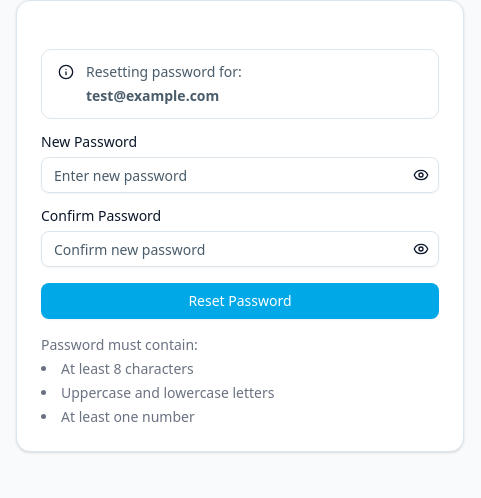
it: ResetPasswordForm Integration Tests › Form Validation › should validate password requirements
The image size is (481, 498).
Note: Test weak password
Type "weak" into the password field labelled "New Password". click: (240, 175)
box: x1=41 y1=157 x2=439 y2=193
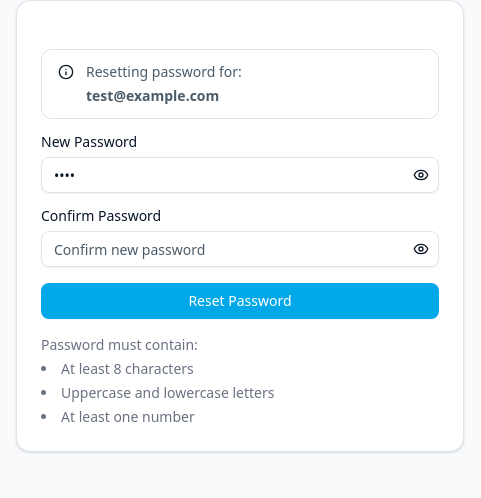
Type "weak" into the password field labelled "Confirm Password". click: (240, 249)
box: x1=41 y1=231 x2=439 y2=267
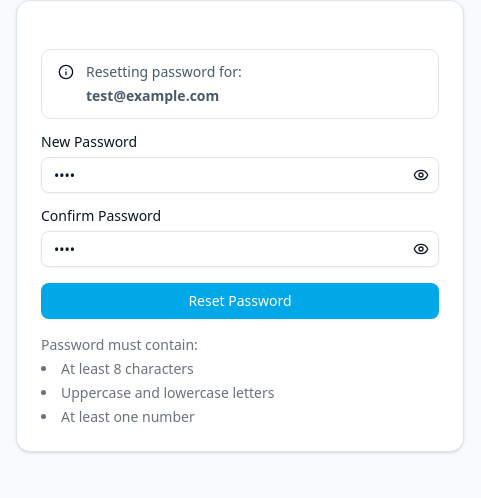
Click the button "Reset Password". click: (240, 301)
box: x1=41 y1=283 x2=439 y2=319
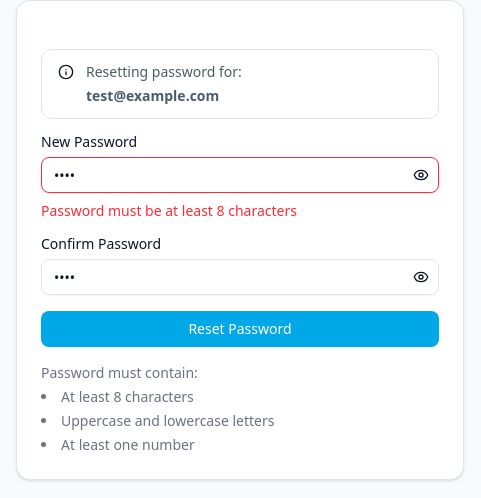
Result: the text "Password must be at least 8 characters" is shown at x1=41 y1=201 x2=297 y2=220
